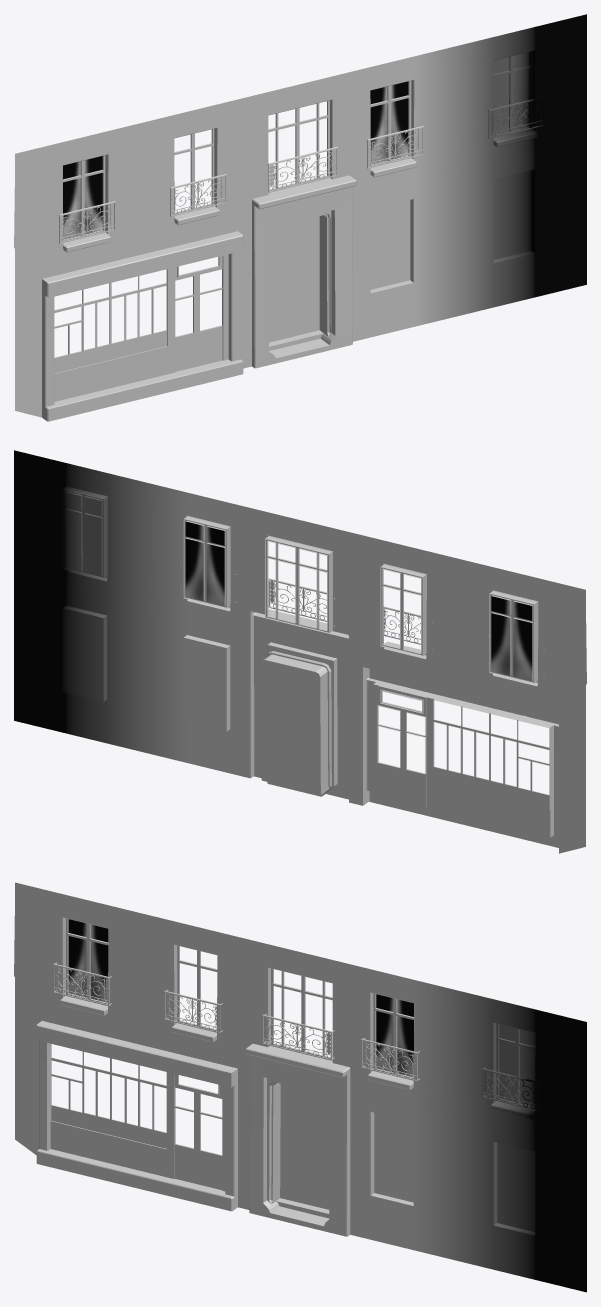
The model's file is ENV_Batiment_01.fbx.
3 views of the same model, one above another, from view 1: azimuth 30°, elevation 25°; view 2: azimuth 150°, elevation 25°; view 3: azimuth 330°, elevation 25° (orthographic).
Parts seen in each view (by area): view 1: ENV_Batiment_02; view 2: ENV_Batiment_02; view 3: ENV_Batiment_02.
Boxes of the visible parts, box(x1,y1,x2,y2) form: ENV_Batiment_02: box(14, 14, 586, 421); ENV_Batiment_02: box(14, 450, 586, 853); ENV_Batiment_02: box(14, 882, 586, 1292).
Size of the model in its own units: 1943 by 876 by 97.66.
